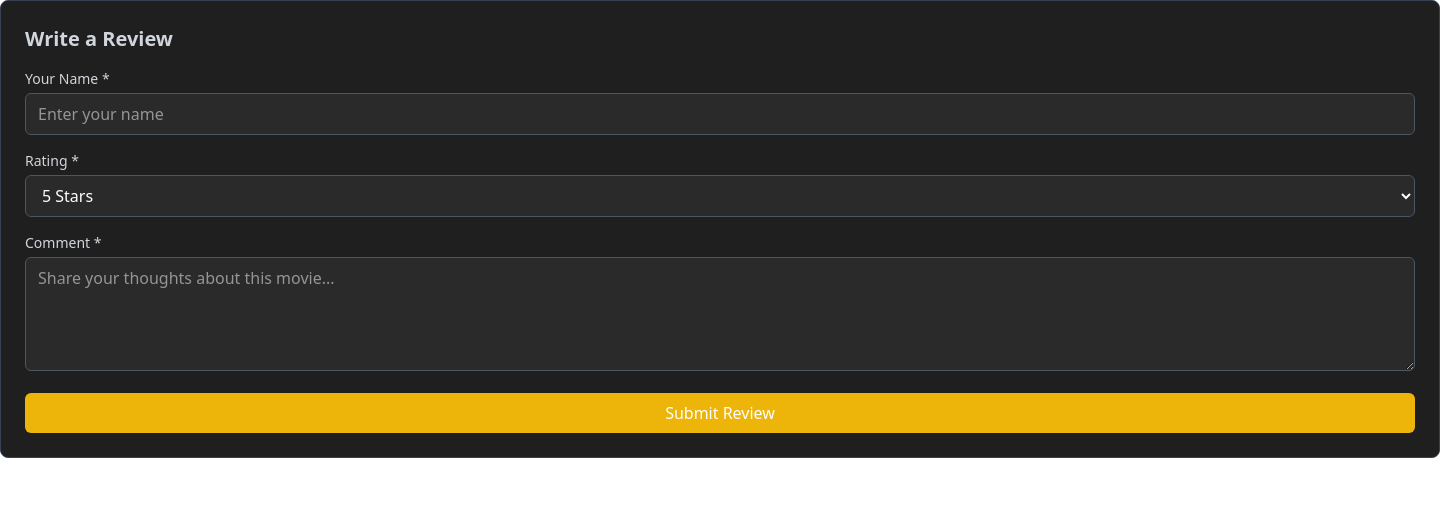
it: ReviewForm › validates required fields
Click the button "Submit Review" at (720,413), box top-left (25, 393), bottom-right (1415, 433)
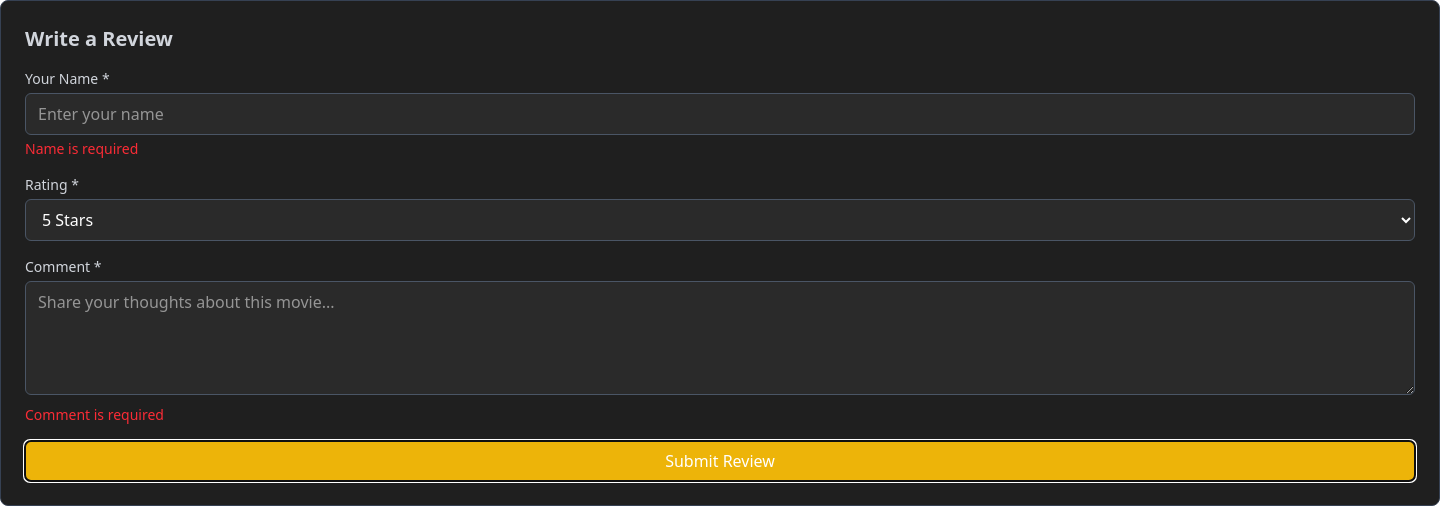
Check: the text "Name is required" is shown, box top-left (25, 139), bottom-right (138, 158)
Check: the text "Comment is required" is shown, box top-left (25, 405), bottom-right (164, 424)
